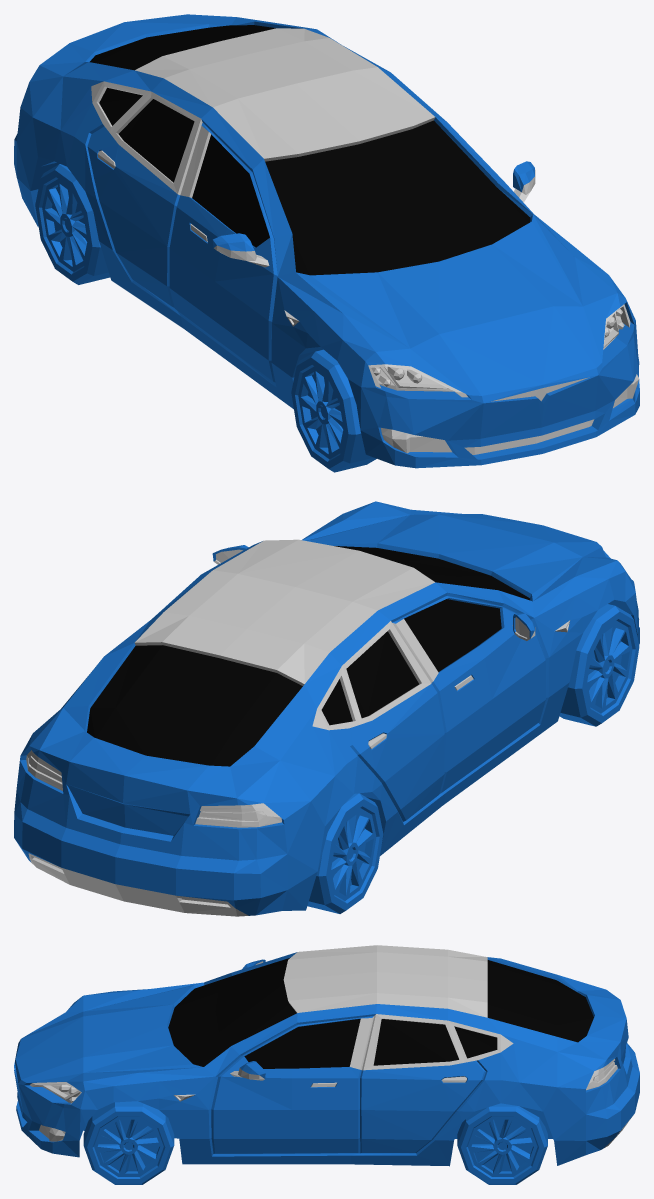
Rendered from SM_electric_car.fbx.
The picture shows the model from 3 angles, top to bottom: view 1: azimuth 30°, elevation 25°; view 2: azimuth 150°, elevation 25°; view 3: azimuth 270°, elevation 25°; orthographic projection. The views are drawn at different scales.
Visible parts, largest first — view 1: Symmetry_5, Cylinder_1, Cylinder_2; view 2: Symmetry_5, Cylinder_1, Cylinder_2; view 3: Symmetry_5, Cylinder, Cylinder_2.
Boxes of the visible parts, x1,y1,x2,y2 form: Symmetry_5: (14,14,639,468); Cylinder_1: (291,349,376,472); Cylinder_2: (35,164,109,284); Symmetry_5: (14,501,639,916); Cylinder_1: (559,604,639,726); Cylinder_2: (307,793,383,913); Symmetry_5: (14,945,639,1166); Cylinder: (83,1101,174,1184); Cylinder_2: (457,1103,547,1184).
Size of the model in its own units: 206 by 138 by 481.
